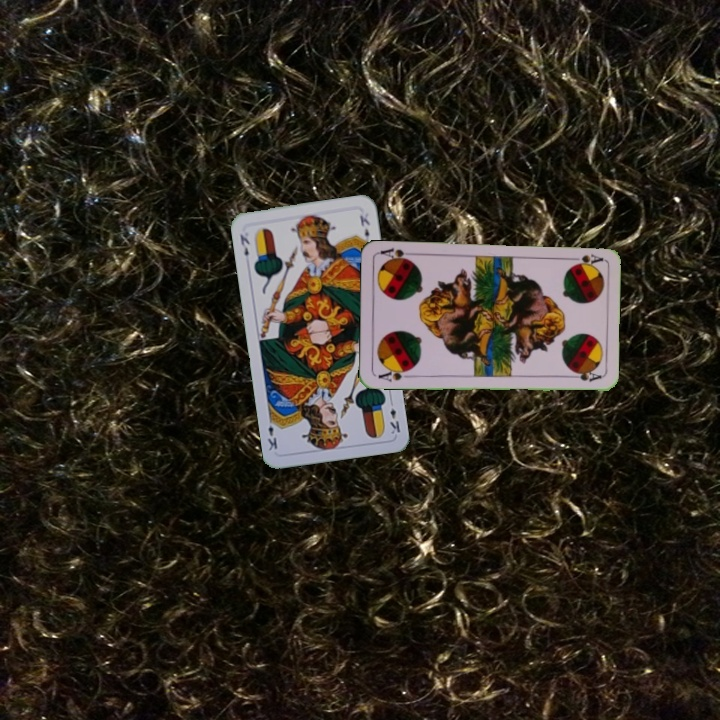EK: (386, 396, 403, 436), (236, 230, 252, 259)
SA: (374, 365, 414, 384), (564, 250, 605, 267)
